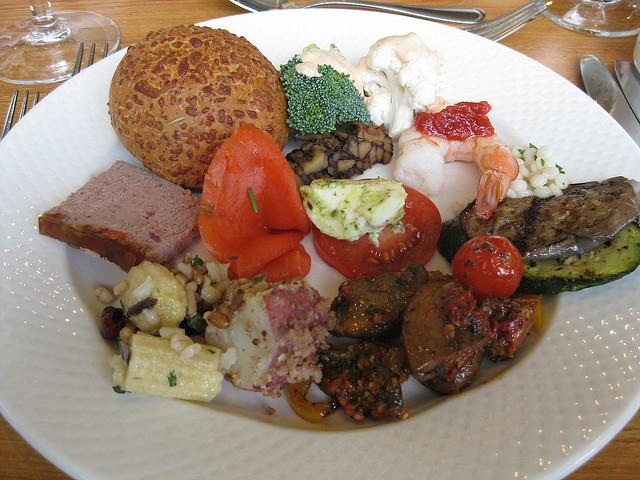broccoli: (280, 54, 371, 136)
tomato: (312, 178, 442, 280), (452, 236, 524, 303), (228, 244, 311, 284)
